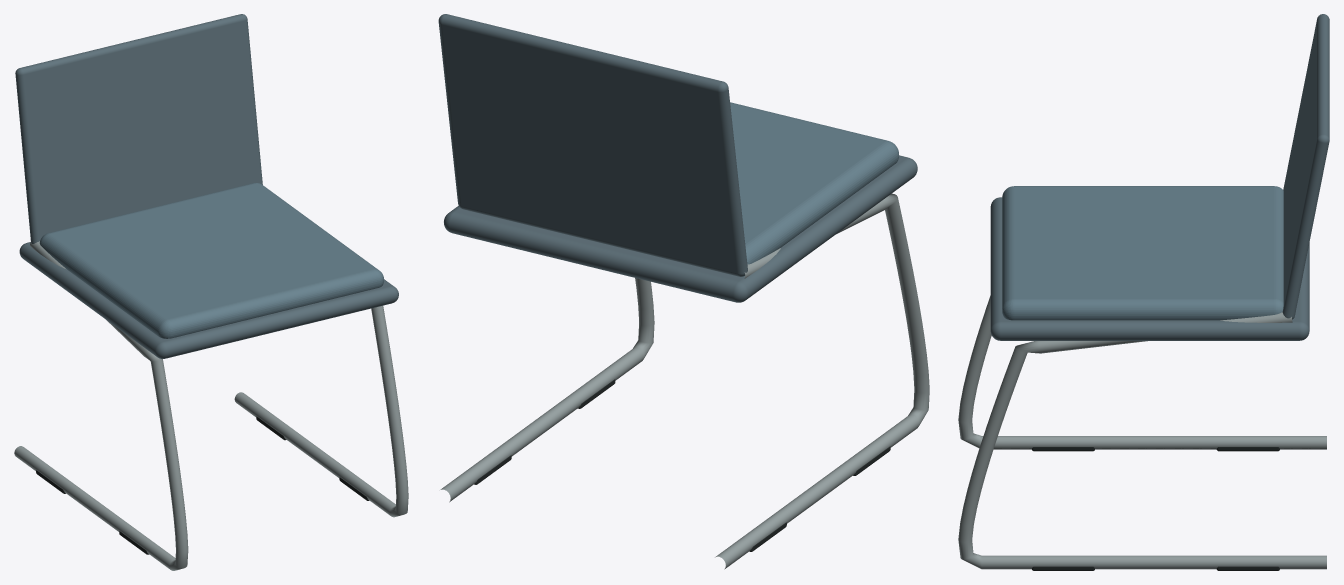
File: atelier-sidechair-slate.glb
3 renders of one model, left to right at view 1: azimuth 30°, elevation 25°; view 2: azimuth 150°, elevation 25°; view 3: azimuth 270°, elevation 25°, orthographic. The views are drawn at different scales.
Parts seen in each view (by area): view 1: mesh_9, mesh_8, mesh_7, mesh_0, mesh_3; view 2: mesh_9, mesh_8, mesh_7, mesh_0, mesh_3; view 3: mesh_8, mesh_3, mesh_7, mesh_9, mesh_0.
Boxes of the visible parts, x1,y1,x2,y2 form: mesh_9: (15, 14, 262, 243); mesh_8: (39, 183, 383, 338); mesh_7: (19, 242, 398, 358); mesh_0: (14, 241, 188, 570); mesh_3: (234, 305, 408, 517); mesh_9: (438, 14, 747, 276); mesh_8: (730, 102, 898, 264); mesh_7: (444, 155, 917, 302); mesh_0: (715, 193, 929, 569); mesh_3: (440, 278, 654, 502); mesh_8: (1002, 186, 1283, 320); mesh_3: (958, 312, 1326, 569); mesh_7: (990, 197, 1309, 340); mesh_9: (1282, 14, 1329, 319); mesh_0: (958, 295, 1326, 449).
Bounding box in the file's own units: 0.5076 × 0.7797 × 0.6039.
